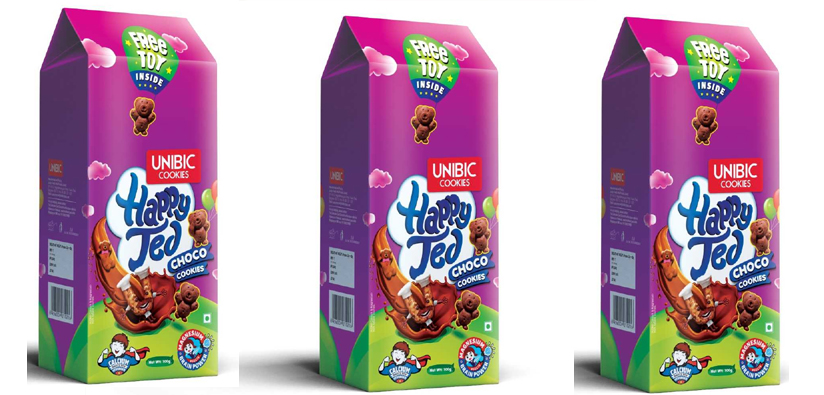VEG: (764, 322, 776, 335), (202, 312, 214, 324), (483, 320, 495, 332)
